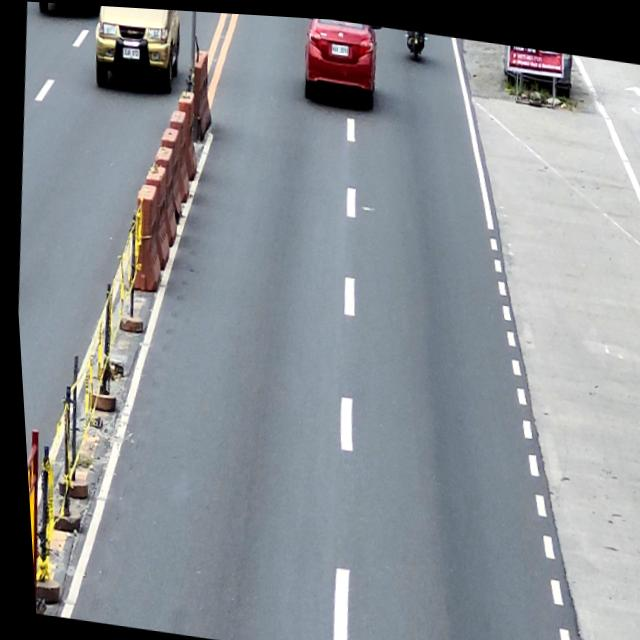Car: (86, 4, 185, 96), (295, 14, 385, 106), (35, 2, 105, 21)
License-Plate: (331, 39, 348, 53), (121, 45, 139, 58)
